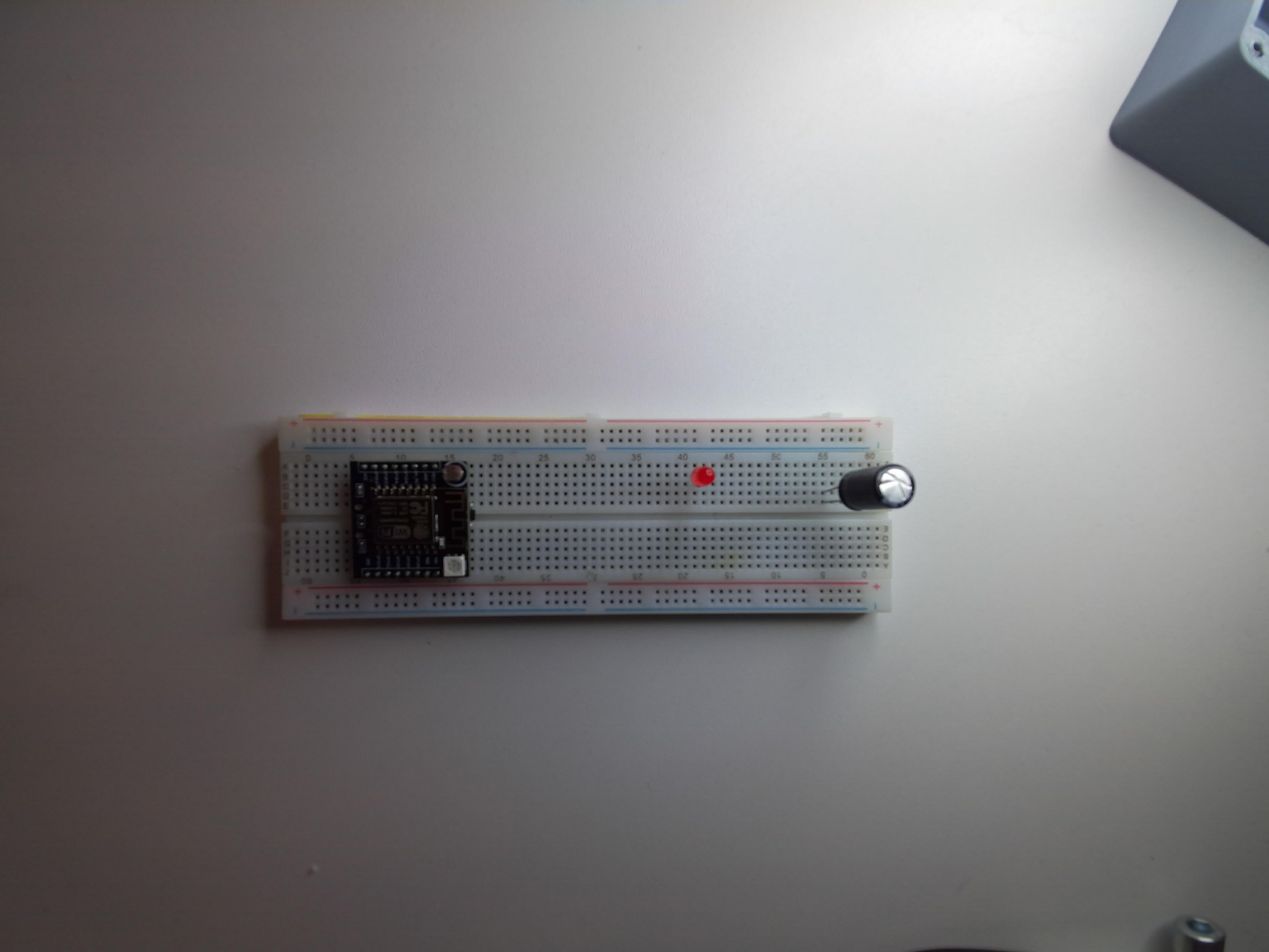base: (261, 412, 901, 626)
capacitor: (838, 459, 916, 512)
esp: (345, 456, 473, 585)
red-led: (692, 465, 715, 486)
resistor-big: (692, 466, 714, 486)
